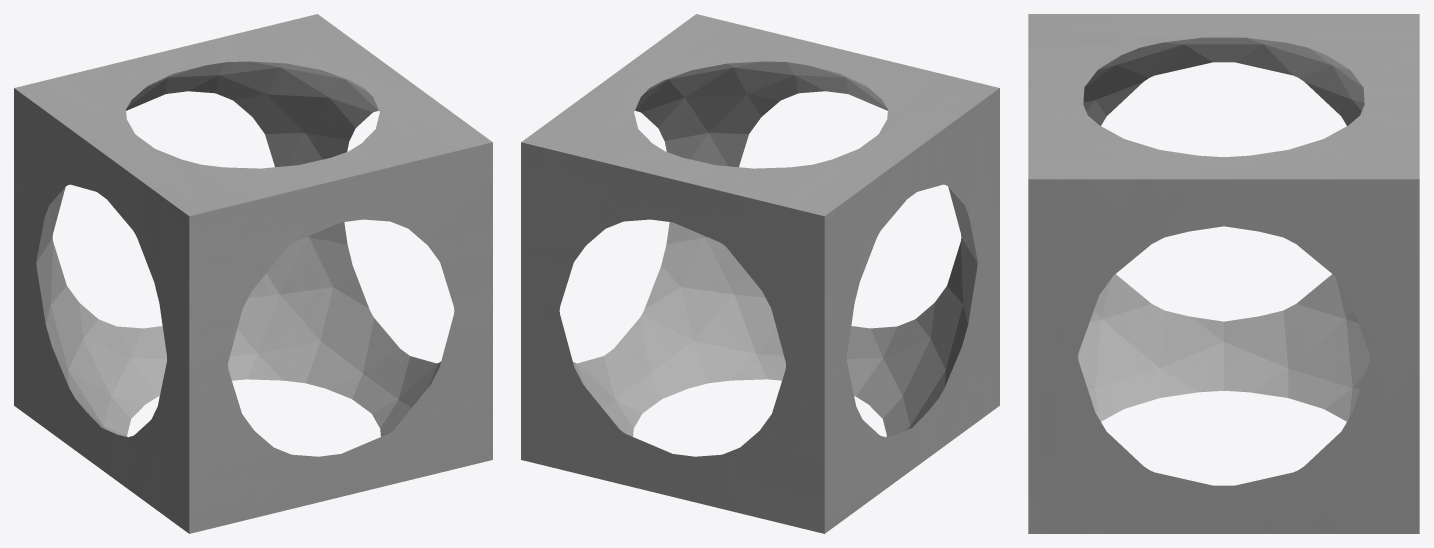
Rendered from cuball_lamp_base.obj.
3 renders of one model, left to right at view 1: azimuth 30°, elevation 25°; view 2: azimuth 150°, elevation 25°; view 3: azimuth 270°, elevation 25°, orthographic. The views are drawn at different scales.
Parts seen in each view (by area): view 1: 1; view 2: 1; view 3: 1.
Boxes of the visible parts, x1,y1,x2,y2 form: 1: (14,14,492,533); 1: (521,14,999,533); 1: (1028,14,1419,533).
Bounding box in the file's own units: 16 × 16 × 16.
